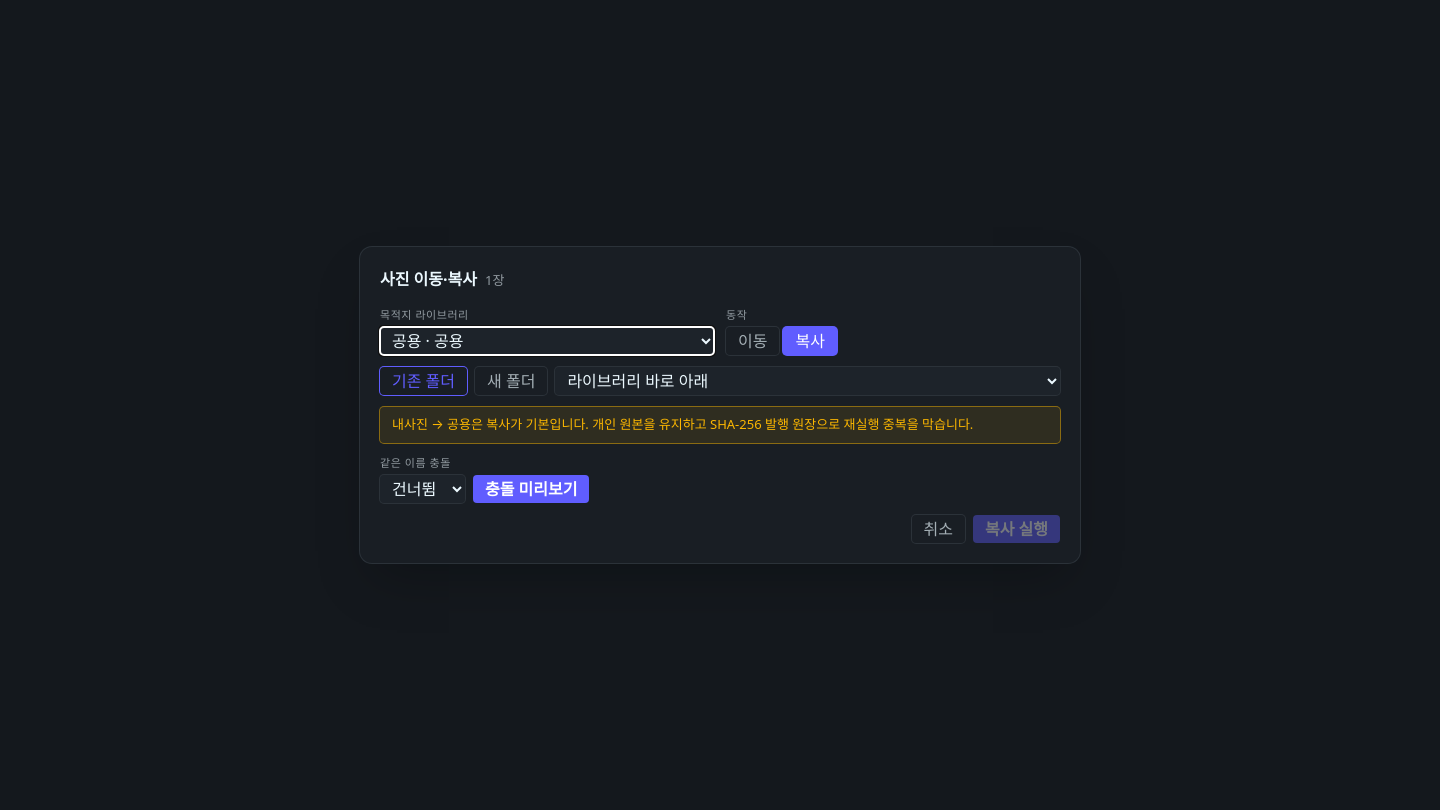
Test: 임의 이동·복사와 공용 발행 › 내사진→공용은 복사가 기본이고 미리보기 전에는 실행하지 않는다
Check: the text "개인 원본을 유지" is shown, box [392, 415, 973, 433]
Check: the button "복사 실행" is disabled, box [973, 515, 1060, 543]
Click the button "충돌 미리보기".
click(531, 489)  # box [473, 475, 590, 503]
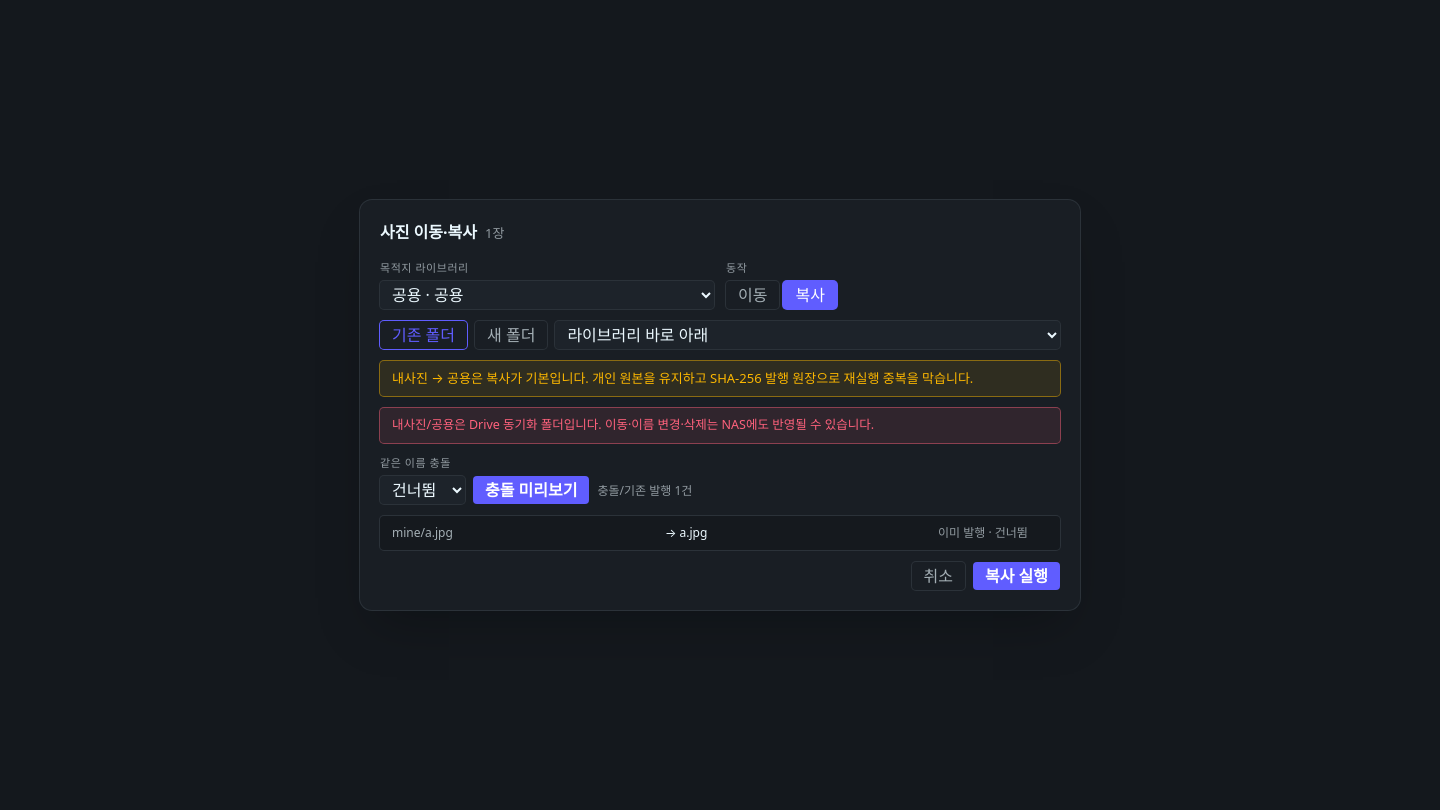
Check: the text "이미 발행 · 건너뜀" is shown, box [938, 524, 1028, 541]
Check: the button "복사 실행" is enabled, box [973, 562, 1060, 590]
